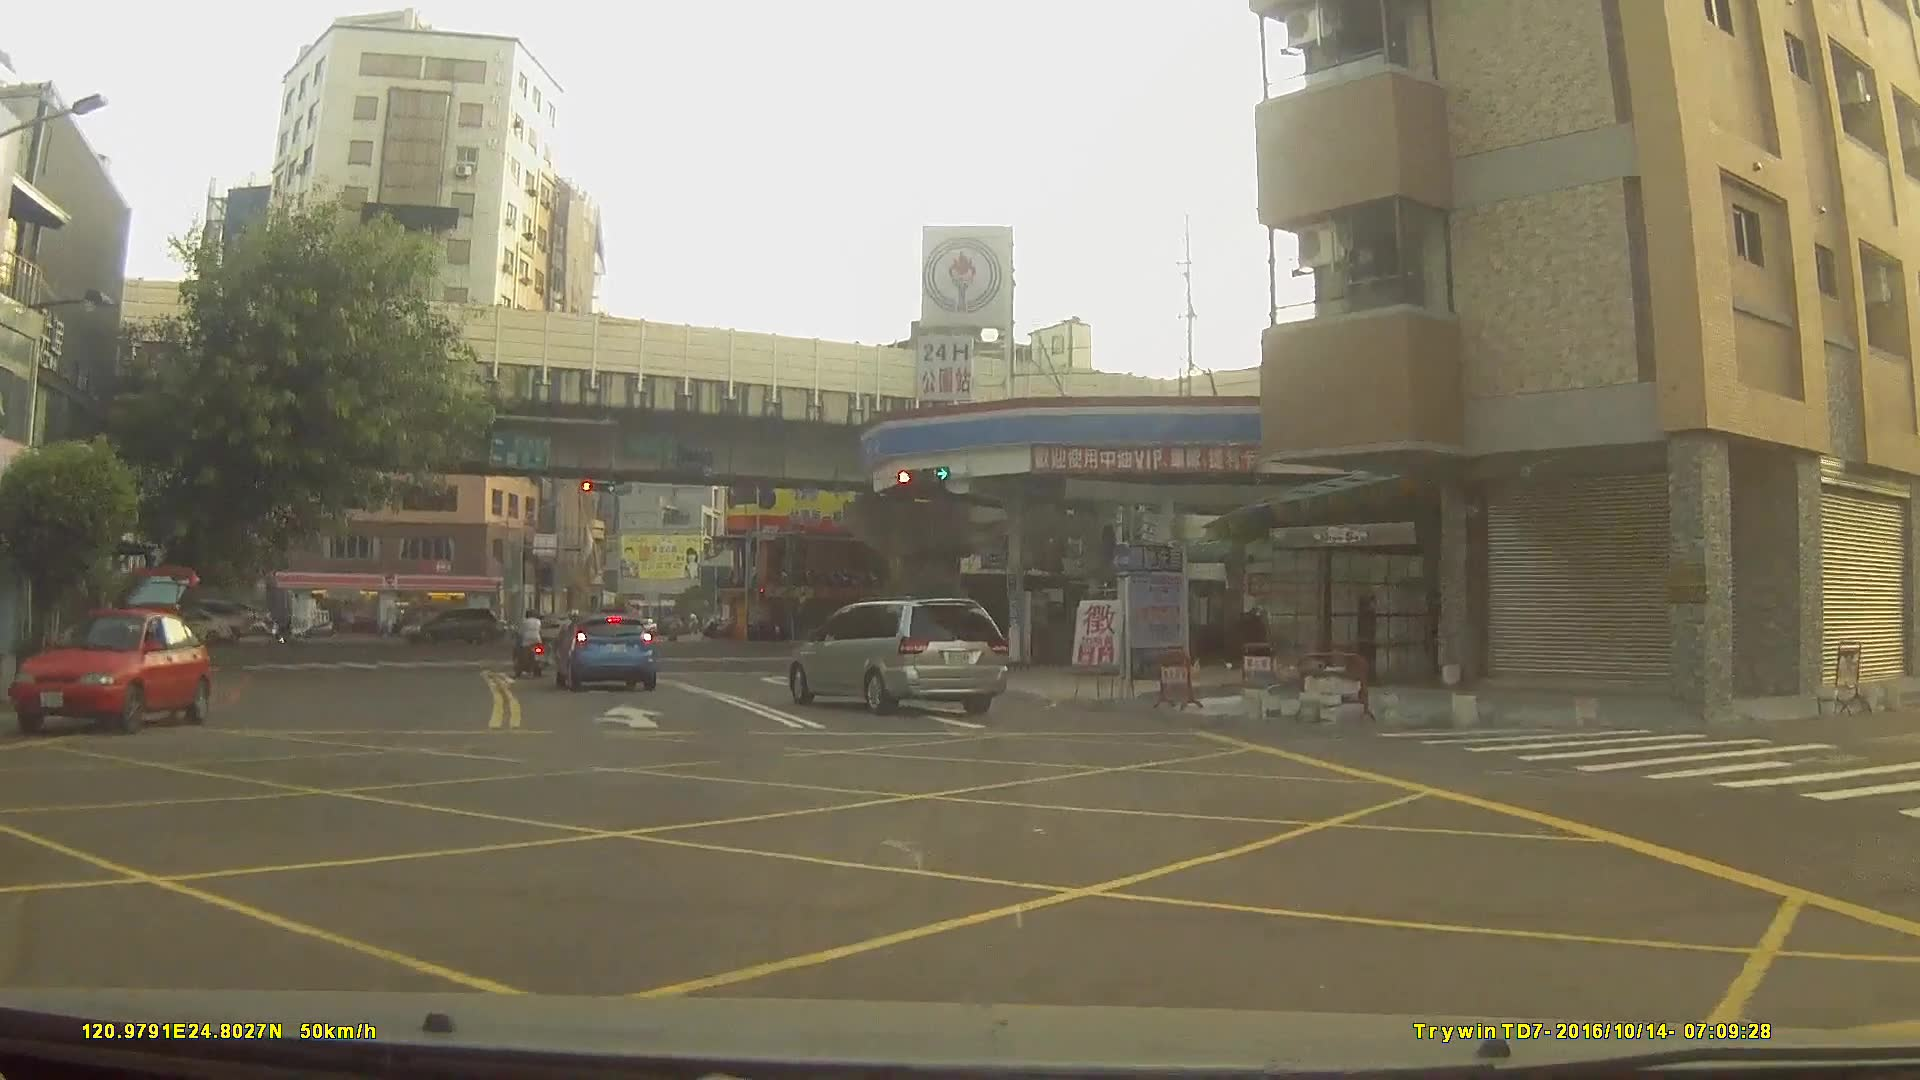rider: (513, 608, 550, 677), (270, 615, 299, 650)
vehicle: (8, 606, 213, 734), (792, 593, 1010, 714), (551, 614, 655, 694), (398, 605, 501, 644), (533, 604, 612, 641)
